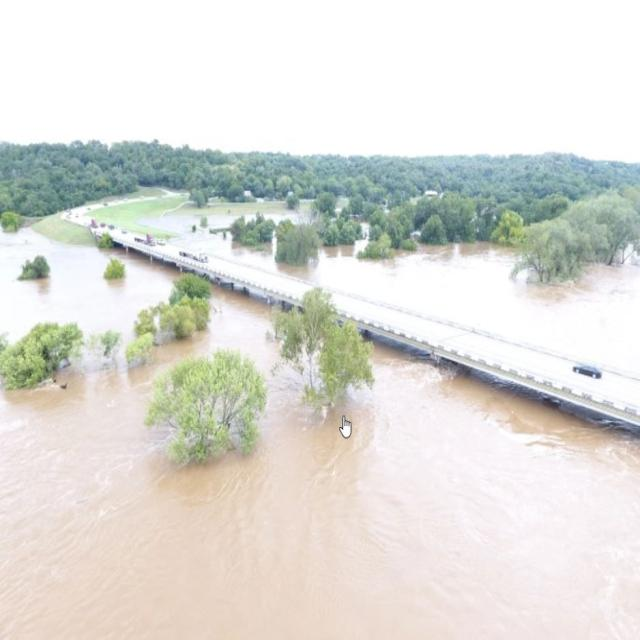flooded_areas: (108, 162, 639, 639)
